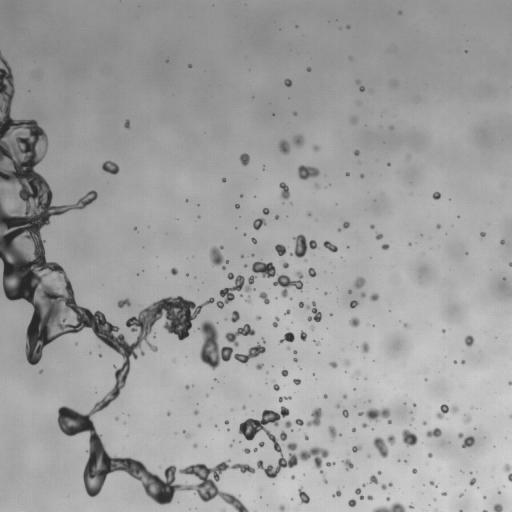droplet: (372, 433, 396, 458), (209, 245, 229, 270), (435, 403, 459, 420), (297, 165, 319, 180), (457, 432, 475, 449), (278, 326, 294, 344), (401, 429, 417, 447), (296, 485, 310, 505), (101, 160, 119, 174), (328, 424, 342, 442), (278, 139, 290, 154), (341, 456, 353, 471), (425, 427, 442, 437), (292, 134, 304, 148), (275, 244, 289, 256), (356, 341, 370, 353), (253, 218, 266, 230), (353, 276, 365, 289), (259, 291, 269, 305), (117, 298, 131, 308), (239, 153, 249, 166), (464, 334, 474, 347), (348, 316, 359, 327), (9, 109, 20, 120), (10, 180, 21, 191), (75, 187, 86, 198), (38, 225, 49, 236), (284, 240, 295, 251), (270, 254, 281, 265), (241, 267, 252, 278), (362, 283, 373, 294), (166, 288, 177, 299), (74, 295, 85, 306), (143, 296, 154, 307), (358, 296, 369, 307), (278, 297, 289, 308), (224, 301, 235, 312), (23, 304, 34, 315), (156, 314, 167, 325), (114, 317, 125, 328), (190, 317, 201, 328), (117, 324, 128, 335), (188, 325, 199, 336), (82, 326, 93, 337), (194, 331, 205, 342), (124, 332, 135, 343), (17, 333, 28, 344), (245, 335, 256, 346), (216, 336, 227, 347), (41, 343, 52, 354), (237, 343, 248, 354), (113, 354, 124, 365), (105, 376, 116, 387), (279, 376, 290, 387), (328, 392, 339, 403), (318, 399, 329, 410), (76, 404, 87, 415), (413, 408, 424, 419), (349, 414, 360, 425), (306, 425, 317, 436), (414, 427, 425, 438), (254, 430, 265, 441), (297, 440, 308, 451), (256, 448, 267, 459), (245, 454, 256, 465), (175, 458, 186, 469), (146, 462, 157, 473), (116, 469, 127, 480), (132, 479, 143, 490), (215, 479, 226, 490), (364, 483, 375, 494), (211, 495, 222, 506), (373, 496, 384, 507), (307, 267, 317, 278), (230, 310, 239, 322), (284, 419, 293, 431), (381, 481, 393, 490), (462, 413, 471, 424), (279, 260, 289, 269), (351, 369, 360, 379), (352, 443, 362, 452), (271, 316, 279, 327), (299, 330, 307, 341), (157, 503, 168, 511), (299, 503, 310, 511), (332, 488, 341, 497), (284, 134, 293, 143), (302, 140, 311, 149), (287, 142, 296, 151), (32, 164, 41, 173), (247, 227, 256, 236), (219, 249, 228, 258), (281, 252, 290, 261), (203, 255, 212, 264), (274, 266, 283, 275), (301, 274, 310, 283), (286, 284, 295, 293), (250, 290, 259, 299), (350, 290, 359, 299), (153, 292, 162, 301), (17, 297, 26, 306), (349, 308, 358, 317), (235, 318, 244, 327), (228, 323, 237, 332), (193, 343, 202, 352), (102, 344, 111, 353), (255, 353, 264, 362), (247, 356, 256, 365), (275, 375, 284, 384), (316, 399, 325, 408), (340, 399, 349, 408), (372, 401, 381, 410), (360, 403, 369, 412), (458, 404, 467, 413), (286, 412, 295, 421), (302, 412, 311, 421), (434, 419, 443, 428), (81, 429, 90, 438), (415, 431, 424, 440), (394, 433, 403, 442), (248, 438, 257, 447), (317, 440, 326, 449), (370, 447, 379, 456), (106, 448, 115, 457), (348, 452, 357, 461), (206, 459, 215, 468), (255, 468, 264, 477), (219, 469, 228, 478), (172, 489, 181, 498), (492, 494, 501, 503), (495, 495, 504, 504), (148, 498, 157, 507), (456, 498, 465, 507), (349, 115, 357, 125), (369, 293, 379, 301), (349, 300, 359, 308), (342, 358, 350, 368), (493, 503, 503, 511), (342, 407, 349, 418), (284, 78, 292, 87), (432, 191, 441, 199), (375, 231, 383, 240), (348, 498, 356, 507), (281, 367, 288, 377), (505, 234, 511, 245), (505, 267, 511, 278), (225, 505, 236, 511), (390, 79, 398, 87), (170, 267, 178, 275), (244, 294, 251, 303), (328, 361, 337, 368), (469, 477, 476, 486), (278, 504, 287, 511), (124, 119, 130, 129), (312, 144, 320, 151), (342, 221, 350, 228), (381, 243, 389, 250), (255, 363, 263, 370), (293, 378, 301, 385), (258, 440, 265, 448), (0, 178, 5, 189), (500, 238, 507, 245), (367, 494, 374, 501), (11, 77, 18, 84), (10, 97, 17, 104), (37, 121, 44, 128), (293, 128, 300, 135), (273, 145, 280, 152), (247, 158, 254, 165), (303, 160, 310, 167), (307, 175, 314, 182), (70, 197, 77, 204), (236, 197, 243, 204), (8, 210, 15, 217), (256, 211, 263, 218), (48, 214, 55, 221), (375, 226, 382, 233), (251, 229, 258, 236), (379, 237, 386, 244), (329, 238, 336, 245), (316, 240, 323, 247), (44, 255, 51, 262), (247, 257, 254, 264), (214, 263, 221, 270), (225, 265, 232, 272), (282, 268, 289, 275), (301, 269, 308, 276), (176, 270, 183, 277), (289, 274, 296, 281), (228, 279, 235, 286), (347, 281, 354, 288), (276, 284, 283, 291), (360, 284, 367, 291), (365, 289, 372, 296), (182, 293, 189, 300), (214, 294, 221, 301), (346, 294, 353, 301), (303, 298, 310, 305), (226, 311, 233, 318), (320, 312, 327, 319), (358, 319, 365, 326), (349, 325, 356, 332), (111, 330, 118, 337), (170, 332, 177, 339), (293, 332, 300, 339), (145, 333, 152, 340), (235, 334, 242, 341), (225, 340, 232, 347), (133, 346, 140, 353), (364, 351, 371, 358), (20, 353, 27, 360), (36, 360, 43, 367), (202, 362, 209, 369), (336, 362, 343, 369), (347, 365, 354, 372), (287, 372, 294, 379), (345, 388, 352, 395), (276, 389, 283, 396), (95, 394, 102, 401), (281, 399, 288, 406), (307, 405, 314, 412), (468, 409, 475, 416), (52, 410, 59, 417), (254, 413, 261, 420), (89, 414, 96, 421), (194, 414, 201, 421), (360, 414, 367, 421), (376, 414, 383, 421), (318, 415, 325, 422), (278, 416, 285, 423), (367, 418, 374, 425), (468, 420, 475, 427), (52, 422, 59, 429), (264, 422, 271, 429), (290, 422, 297, 429), (309, 424, 316, 431), (355, 424, 362, 431), (427, 424, 434, 431), (283, 426, 290, 433), (408, 426, 415, 433), (94, 427, 101, 434), (323, 430, 330, 437), (60, 432, 67, 439), (380, 433, 387, 440), (99, 436, 106, 443), (285, 436, 292, 443), (186, 438, 193, 445), (266, 440, 273, 447), (383, 440, 390, 447), (293, 448, 300, 455), (119, 451, 126, 458), (273, 451, 280, 458), (82, 453, 89, 460), (131, 453, 138, 460), (307, 455, 314, 462), (320, 456, 327, 463), (190, 458, 197, 465), (183, 460, 190, 467), (271, 460, 278, 467), (249, 461, 256, 468), (338, 462, 345, 469), (497, 462, 504, 469), (105, 472, 112, 479), (159, 474, 166, 481), (360, 488, 367, 495), (381, 489, 388, 496), (352, 493, 359, 500), (213, 494, 220, 501), (293, 494, 300, 501), (281, 498, 288, 505), (241, 499, 248, 506), (385, 501, 392, 508), (401, 501, 408, 508), (361, 422, 369, 428), (242, 447, 250, 453), (347, 506, 356, 511), (262, 208, 269, 214), (251, 237, 257, 244), (283, 309, 290, 315), (403, 323, 410, 329), (193, 408, 199, 415), (427, 452, 433, 458), (408, 502, 414, 508), (0, 261, 4, 270), (0, 287, 4, 296), (354, 149, 359, 156), (314, 182, 319, 189), (480, 232, 485, 239), (309, 324, 314, 331), (304, 432, 308, 440), (406, 154, 411, 160), (221, 177, 227, 182), (307, 211, 312, 217), (360, 292, 366, 297), (255, 315, 261, 320), (171, 357, 176, 363), (335, 403, 340, 409), (241, 404, 246, 410), (196, 422, 201, 428), (192, 442, 197, 448), (441, 491, 447, 496), (404, 507, 411, 511), (487, 507, 494, 511), (501, 507, 508, 511), (397, 10, 402, 15), (274, 214, 279, 219), (369, 224, 374, 229), (436, 224, 441, 229), (38, 369, 43, 374), (184, 384, 189, 389), (342, 394, 347, 399), (230, 407, 235, 412), (366, 453, 371, 458), (412, 468, 417, 473), (377, 470, 382, 475), (290, 474, 295, 479), (341, 26, 346, 31), (3, 55, 8, 60), (7, 61, 12, 66), (10, 70, 15, 75), (360, 81, 365, 86), (290, 82, 295, 87), (354, 84, 359, 89), (287, 85, 292, 90), (124, 114, 129, 119), (25, 115, 30, 120), (120, 119, 125, 124), (128, 121, 133, 126), (121, 126, 126, 131), (314, 140, 319, 145), (46, 145, 51, 150), (238, 149, 243, 154), (246, 150, 251, 155), (235, 153, 240, 158), (236, 159, 241, 164), (115, 160, 120, 165), (97, 162, 102, 167), (117, 163, 122, 168), (293, 167, 298, 172), (116, 170, 121, 175), (105, 171, 110, 176), (45, 178, 50, 183), (299, 178, 304, 183), (284, 180, 289, 185), (49, 186, 54, 191), (287, 187, 292, 192), (96, 193, 101, 198), (278, 196, 283, 201), (17, 197, 22, 202), (284, 198, 289, 203), (434, 198, 439, 203), (90, 200, 95, 205), (49, 201, 54, 206), (85, 203, 90, 208), (311, 212, 316, 217), (58, 213, 63, 218), (343, 216, 348, 221), (337, 222, 342, 227), (259, 224, 264, 229), (341, 227, 346, 232), (293, 231, 298, 236), (322, 236, 327, 241), (304, 239, 309, 244), (272, 240, 277, 245), (42, 242, 47, 247), (214, 242, 219, 247), (312, 247, 317, 252), (324, 247, 329, 252), (383, 248, 388, 253), (272, 249, 277, 254), (284, 250, 289, 255), (291, 253, 296, 258), (298, 256, 303, 261), (251, 257, 256, 262), (263, 259, 268, 264), (58, 261, 63, 266), (247, 263, 252, 268), (175, 265, 180, 270), (313, 266, 318, 271), (185, 267, 190, 272), (166, 270, 171, 275), (249, 270, 254, 275), (361, 273, 366, 278), (272, 275, 277, 280), (300, 277, 305, 282), (243, 279, 248, 284), (70, 283, 75, 288), (249, 283, 254, 288), (219, 284, 224, 289), (301, 285, 306, 290), (239, 288, 244, 293), (231, 289, 236, 294), (255, 289, 260, 294), (162, 293, 167, 298), (266, 294, 271, 299), (277, 294, 282, 299), (120, 295, 125, 300), (220, 296, 225, 301), (283, 296, 288, 301), (4, 297, 9, 302), (128, 297, 133, 302), (258, 297, 263, 302), (373, 299, 378, 304), (112, 301, 117, 306), (194, 301, 199, 306), (211, 301, 216, 306), (293, 301, 298, 306), (122, 303, 127, 308), (115, 306, 120, 311), (100, 308, 105, 313), (90, 309, 95, 314), (255, 310, 260, 315), (238, 312, 243, 317), (310, 312, 315, 317), (126, 313, 131, 318), (277, 313, 282, 318), (105, 316, 110, 321), (401, 317, 406, 322), (310, 318, 315, 323), (406, 319, 411, 324), (110, 320, 115, 325), (249, 324, 254, 329), (135, 325, 140, 330), (288, 327, 293, 332), (162, 328, 167, 333), (283, 328, 288, 333), (303, 328, 308, 333), (463, 331, 468, 336), (66, 332, 71, 337), (61, 333, 66, 338), (246, 333, 251, 338), (279, 333, 284, 338), (305, 335, 310, 340), (472, 335, 477, 340), (183, 336, 188, 341), (140, 339, 145, 344), (283, 339, 288, 344), (460, 339, 465, 344), (472, 339, 477, 344), (357, 341, 362, 346), (251, 342, 256, 347), (367, 342, 372, 347), (461, 342, 466, 347), (217, 344, 222, 349), (315, 345, 320, 350), (357, 346, 362, 351), (243, 350, 248, 355), (152, 351, 157, 356), (257, 352, 262, 357), (290, 353, 295, 358), (294, 353, 299, 358), (128, 354, 133, 359), (329, 357, 334, 362), (456, 357, 461, 362), (218, 358, 223, 363), (24, 360, 29, 365), (116, 363, 121, 368), (261, 365, 266, 370), (327, 365, 332, 370), (111, 367, 116, 372), (128, 367, 133, 372), (125, 375, 130, 380), (358, 375, 363, 380), (118, 388, 123, 393), (206, 388, 211, 393), (337, 394, 342, 399), (108, 401, 113, 406), (446, 402, 451, 407), (195, 405, 200, 410), (265, 405, 270, 410), (102, 406, 107, 411), (411, 406, 416, 411), (337, 407, 342, 412), (436, 407, 441, 412), (275, 408, 280, 413), (320, 408, 325, 413), (443, 412, 448, 417), (308, 415, 313, 420), (240, 417, 245, 422), (117, 418, 122, 423), (302, 418, 307, 423), (223, 423, 228, 428), (301, 423, 306, 428), (234, 424, 239, 429), (365, 425, 370, 430), (335, 428, 340, 433), (453, 430, 458, 435), (179, 432, 184, 437), (239, 433, 244, 438), (462, 433, 467, 438), (334, 434, 339, 439), (430, 434, 435, 439), (473, 436, 478, 441), (276, 438, 281, 443), (459, 438, 464, 443), (352, 440, 357, 445), (232, 441, 237, 446), (197, 443, 202, 448), (408, 444, 413, 449), (464, 445, 469, 450), (341, 455, 346, 460), (296, 458, 301, 463), (349, 458, 354, 463), (198, 459, 203, 464), (215, 459, 220, 464), (227, 461, 232, 466), (262, 463, 267, 468), (162, 464, 167, 469), (292, 464, 297, 469), (279, 466, 284, 471), (235, 467, 240, 472), (314, 467, 319, 472), (348, 467, 353, 472), (503, 472, 508, 477), (324, 474, 329, 479), (375, 474, 380, 479), (467, 474, 472, 479), (267, 476, 272, 481), (365, 477, 370, 482), (79, 480, 84, 485), (213, 480, 218, 485), (424, 480, 429, 485), (376, 482, 381, 487), (429, 484, 434, 489), (385, 485, 390, 490), (139, 486, 144, 491), (499, 487, 504, 492), (81, 488, 86, 493), (339, 488, 344, 493), (304, 489, 309, 494), (294, 490, 299, 495), (233, 493, 238, 498), (93, 494, 98, 499), (196, 496, 201, 501), (208, 498, 213, 503), (428, 498, 433, 503), (430, 501, 435, 506), (301, 502, 306, 507), (235, 203, 239, 209), (213, 378, 219, 382), (166, 410, 170, 416), (352, 427, 356, 433), (253, 446, 257, 452), (386, 495, 390, 501), (220, 507, 226, 511), (187, 64, 192, 68), (306, 67, 311, 71), (292, 111, 297, 115), (360, 173, 364, 178), (347, 289, 351, 294), (286, 345, 290, 350), (460, 360, 465, 364), (322, 394, 327, 398), (422, 421, 427, 425), (403, 459, 407, 464), (497, 489, 501, 494), (346, 25, 350, 29), (348, 56, 352, 60), (389, 125, 393, 129), (345, 172, 349, 176), (289, 201, 293, 205), (337, 227, 341, 231), (250, 253, 254, 257), (240, 254, 244, 258), (185, 272, 189, 276), (324, 291, 328, 295), (329, 313, 333, 317), (441, 329, 445, 333), (98, 353, 102, 357), (453, 360, 457, 364), (265, 370, 269, 374), (412, 403, 416, 407), (459, 493, 463, 497), (243, 264, 248, 267), (508, 414, 511, 419), (225, 428, 230, 431), (228, 444, 233, 447), (433, 508, 438, 511), (508, 460, 511, 465), (190, 508, 195, 511), (275, 508, 280, 511), (283, 508, 288, 511), (165, 59, 169, 62), (387, 162, 390, 166), (185, 198, 188, 202), (197, 215, 201, 218), (243, 232, 246, 236), (408, 242, 411, 246), (465, 251, 468, 255), (508, 262, 511, 266), (502, 277, 506, 280), (239, 294, 243, 297), (98, 344, 101, 348), (424, 377, 427, 381), (508, 381, 511, 385), (205, 393, 208, 397), (115, 416, 118, 420), (411, 417, 414, 421), (232, 438, 235, 442), (397, 458, 400, 462), (483, 495, 486, 499), (482, 509, 487, 511), (295, 25, 298, 28), (464, 50, 467, 53), (240, 194, 243, 197), (457, 215, 460, 218), (420, 233, 423, 236), (346, 245, 349, 248), (136, 273, 139, 276), (289, 297, 292, 300), (224, 318, 227, 321), (317, 351, 320, 354), (312, 372, 315, 375), (364, 377, 367, 380), (353, 387, 356, 390), (403, 402, 406, 405), (123, 421, 126, 424), (214, 424, 217, 427), (371, 427, 374, 430), (473, 427, 476, 430), (174, 432, 177, 435), (238, 440, 241, 443), (158, 465, 161, 468), (469, 471, 472, 474), (290, 497, 293, 500), (433, 498, 436, 501), (295, 21, 298, 24), (349, 24, 352, 27), (295, 27, 298, 30), (464, 46, 467, 49), (461, 50, 464, 53), (466, 51, 469, 54), (164, 56, 167, 59), (188, 60, 191, 63), (167, 61, 170, 64), (187, 67, 190, 70), (310, 68, 313, 71), (307, 71, 310, 74), (288, 76, 291, 79), (284, 85, 287, 88), (356, 88, 359, 91), (362, 90, 365, 93), (269, 111, 272, 114), (296, 111, 299, 114), (274, 112, 277, 115), (291, 114, 294, 117), (271, 115, 274, 118), (351, 152, 354, 155), (358, 152, 361, 155), (355, 155, 358, 158), (386, 159, 389, 162), (263, 161, 266, 164), (383, 162, 386, 165), (390, 162, 393, 165), (259, 165, 262, 168), (386, 165, 389, 168), (264, 166, 267, 169), (346, 169, 349, 172), (359, 170, 362, 173), (342, 172, 345, 175), (349, 172, 352, 175), (363, 173, 366, 176), (222, 174, 225, 177), (345, 175, 348, 178), (357, 175, 360, 178), (218, 178, 221, 181), (223, 181, 226, 184), (87, 188, 90, 191), (94, 188, 97, 191), (438, 190, 441, 193), (251, 192, 254, 195), (255, 193, 258, 196), (429, 193, 432, 196), (236, 194, 239, 197), (242, 195, 245, 198), (439, 195, 442, 198), (252, 197, 255, 200), (182, 198, 185, 201), (187, 199, 190, 202), (196, 200, 199, 203), (235, 200, 238, 203), (199, 203, 202, 206), (231, 204, 234, 207), (239, 204, 242, 207), (263, 204, 266, 207), (194, 205, 197, 208), (237, 207, 240, 210), (195, 212, 198, 215), (198, 212, 201, 215), (455, 212, 458, 215), (453, 215, 456, 218), (277, 216, 280, 219), (457, 217, 460, 220), (196, 218, 199, 221), (273, 218, 276, 221), (370, 221, 373, 224), (233, 223, 236, 226), (433, 223, 436, 226), (131, 224, 134, 227), (231, 226, 234, 229), (367, 226, 370, 229), (439, 226, 442, 229), (136, 227, 139, 230), (334, 228, 337, 231), (133, 229, 136, 232), (482, 229, 485, 232), (240, 231, 243, 234), (337, 231, 340, 234), (373, 233, 376, 236), (484, 233, 487, 236), (417, 234, 420, 237), (477, 234, 480, 237), (254, 236, 257, 239), (481, 236, 484, 239), (497, 238, 500, 241), (504, 240, 507, 243), (250, 241, 253, 244), (405, 241, 408, 244), (346, 242, 349, 245), (411, 242, 414, 245), (499, 243, 502, 246), (502, 243, 505, 246), (407, 245, 410, 248), (336, 246, 339, 249), (347, 247, 350, 250), (464, 248, 467, 251), (332, 251, 335, 254), (247, 252, 250, 255), (467, 252, 470, 255), (237, 254, 240, 257), (243, 254, 246, 257), (464, 254, 467, 257), (342, 256, 345, 259), (339, 258, 342, 261), (143, 268, 146, 271), (138, 272, 141, 275), (188, 272, 191, 275), (133, 273, 136, 276), (224, 273, 227, 276), (500, 274, 503, 277), (313, 275, 316, 278), (505, 276, 508, 279), (501, 279, 504, 282), (326, 289, 329, 292), (344, 290, 347, 293), (320, 291, 323, 294), (326, 292, 329, 295), (300, 298, 303, 301), (347, 300, 350, 303), (244, 301, 247, 304), (267, 302, 270, 305), (354, 305, 357, 308), (200, 307, 203, 310), (217, 307, 220, 310), (351, 307, 354, 310), (289, 310, 292, 313), (330, 310, 333, 313), (387, 311, 390, 314), (259, 313, 262, 316), (285, 313, 288, 316), (259, 318, 262, 321), (276, 320, 279, 323), (374, 323, 377, 326), (400, 323, 403, 326), (369, 324, 372, 327), (272, 326, 275, 329), (443, 326, 446, 329), (444, 330, 447, 333), (439, 331, 442, 334), (263, 337, 266, 340), (314, 337, 317, 340), (319, 339, 322, 342), (311, 341, 314, 344), (77, 342, 80, 345), (260, 343, 263, 346), (156, 346, 159, 349), (264, 348, 267, 351), (85, 351, 88, 354), (316, 353, 319, 356), (95, 354, 98, 357), (291, 360, 294, 363), (450, 360, 453, 363), (271, 361, 274, 364), (371, 361, 374, 364), (242, 362, 245, 365), (463, 362, 466, 365), (453, 363, 456, 366), (299, 364, 302, 367), (41, 371, 44, 374), (345, 372, 348, 375), (423, 374, 426, 377), (281, 375, 284, 378), (312, 375, 315, 378), (216, 377, 219, 380), (352, 377, 355, 380), (262, 379, 265, 382), (426, 379, 429, 382), (213, 380, 216, 383), (422, 380, 425, 383), (505, 380, 508, 383), (183, 382, 186, 385), (277, 382, 280, 385), (292, 382, 295, 385), (297, 383, 300, 386), (188, 384, 191, 387), (352, 384, 355, 387), (182, 386, 185, 389), (270, 386, 273, 389), (349, 387, 352, 390), (354, 389, 357, 392), (285, 394, 288, 397), (320, 394, 323, 397), (326, 394, 329, 397), (346, 395, 349, 398), (325, 397, 328, 400), (364, 397, 367, 400), (195, 399, 198, 402), (401, 399, 404, 402), (413, 400, 416, 403), (198, 402, 201, 405), (409, 403, 412, 406), (239, 404, 242, 407), (402, 404, 405, 407), (474, 404, 477, 407), (472, 408, 475, 411), (164, 409, 167, 412), (347, 409, 350, 412), (358, 409, 361, 412), (169, 413, 172, 416), (196, 413, 199, 416), (410, 413, 413, 416), (164, 414, 167, 417), (347, 414, 350, 417), (341, 415, 344, 418), (299, 416, 302, 419), (391, 420, 394, 423), (221, 421, 224, 424), (194, 422, 197, 425), (200, 423, 203, 426), (211, 423, 214, 426), (387, 423, 390, 426), (351, 424, 354, 427), (473, 424, 476, 427), (195, 426, 198, 429), (348, 427, 351, 430), (185, 429, 188, 432), (350, 431, 353, 434), (341, 432, 344, 435), (307, 435, 310, 438), (301, 436, 304, 439), (229, 440, 232, 443), (256, 444, 259, 447), (262, 444, 265, 447), (227, 446, 230, 449), (193, 447, 196, 450), (492, 447, 495, 450), (249, 448, 252, 451), (349, 449, 352, 452), (356, 449, 359, 452), (242, 451, 245, 454), (353, 451, 356, 454), (431, 451, 434, 454), (424, 453, 427, 456), (395, 456, 398, 459), (404, 456, 407, 459), (426, 456, 429, 459), (400, 459, 403, 462), (415, 466, 418, 469), (409, 467, 412, 470), (379, 468, 382, 471), (461, 468, 464, 471), (468, 468, 471, 471), (458, 471, 461, 474), (276, 472, 279, 475), (411, 472, 414, 475), (414, 472, 417, 475), (319, 473, 322, 476), (294, 475, 297, 478), (327, 480, 330, 483), (321, 481, 324, 484), (391, 481, 394, 484), (433, 481, 436, 484), (473, 482, 476, 485), (434, 487, 437, 490), (352, 488, 355, 491), (442, 489, 445, 492), (460, 489, 463, 492), (494, 489, 497, 492), (446, 491, 449, 494), (463, 491, 466, 494), (258, 492, 261, 495), (456, 492, 459, 495), (483, 492, 486, 495), (496, 493, 499, 496), (261, 495, 264, 498), (329, 495, 332, 498), (334, 495, 337, 498), (363, 495, 366, 498), (442, 495, 445, 498), (461, 495, 464, 498), (479, 495, 482, 498), (287, 497, 290, 500), (483, 498, 486, 501), (308, 499, 311, 502), (368, 499, 371, 502), (345, 502, 348, 505), (284, 504, 287, 507), (347, 505, 350, 508), (426, 505, 429, 508), (459, 506, 462, 509), (483, 506, 486, 509), (272, 113, 274, 116), (253, 195, 256, 197), (448, 198, 451, 200), (335, 202, 337, 205), (196, 204, 199, 206), (175, 218, 178, 220), (193, 276, 196, 278), (274, 297, 277, 299), (388, 309, 391, 311), (372, 324, 374, 327), (75, 342, 77, 345), (341, 348, 344, 350), (89, 351, 91, 354), (192, 384, 194, 387), (249, 394, 251, 397), (353, 405, 356, 407), (409, 411, 412, 413), (298, 428, 300, 431), (422, 484, 425, 486), (502, 485, 505, 487), (477, 486, 479, 489), (459, 509, 462, 511), (509, 259, 511, 262), (509, 266, 511, 269), (509, 378, 511, 381), (509, 384, 511, 387), (186, 509, 189, 511), (194, 509, 197, 511), (455, 509, 458, 511), (462, 509, 465, 511), (339, 27, 341, 29), (28, 90, 30, 92), (252, 96, 254, 98), (329, 184, 331, 186), (235, 227, 237, 229), (445, 232, 447, 234), (340, 256, 342, 258), (197, 288, 199, 290), (291, 321, 293, 323), (399, 320, 401, 322), (495, 336, 497, 338), (315, 378, 317, 380), (265, 382, 267, 384), (211, 387, 213, 389), (196, 403, 198, 405), (409, 423, 411, 425), (493, 445, 495, 447), (303, 473, 305, 475), (272, 483, 274, 485), (342, 485, 344, 487), (464, 489, 466, 491), (177, 501, 179, 503), (195, 507, 197, 509), (142, 269, 143, 271), (185, 356, 187, 357), (272, 365, 273, 367), (95, 391, 96, 393), (428, 504, 430, 505), (239, 216, 240, 217), (316, 288, 317, 289), (373, 360, 374, 361), (252, 410, 253, 411)
ligament: (216, 259, 302, 308), (357, 407, 391, 424), (371, 502, 407, 511), (279, 182, 290, 204), (502, 463, 511, 482), (323, 240, 337, 252), (355, 79, 364, 91), (271, 379, 280, 391), (354, 488, 363, 500), (277, 396, 292, 402), (224, 417, 234, 426), (182, 429, 191, 438), (292, 349, 298, 362), (312, 339, 321, 346), (429, 480, 438, 487), (325, 461, 335, 466), (133, 226, 138, 232), (364, 399, 371, 403), (470, 406, 477, 410), (262, 164, 265, 170), (153, 332, 156, 338), (344, 370, 348, 373), (460, 470, 463, 473), (253, 510, 257, 511)
